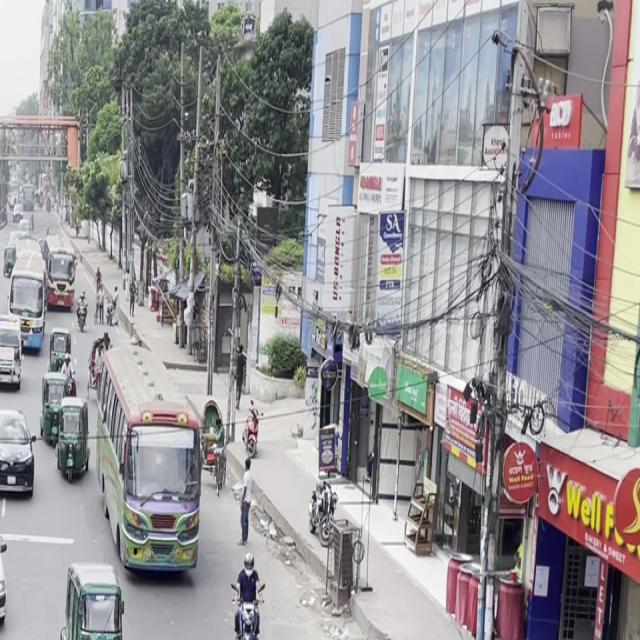bus: (91, 345, 208, 583), (6, 255, 53, 354), (45, 231, 79, 308)
car: (0, 404, 39, 507), (307, 622, 471, 640), (0, 482, 13, 635), (0, 331, 23, 395)
motorbike: (227, 548, 269, 640), (74, 291, 92, 335)
rickshaw: (57, 560, 131, 640), (54, 398, 92, 484)
